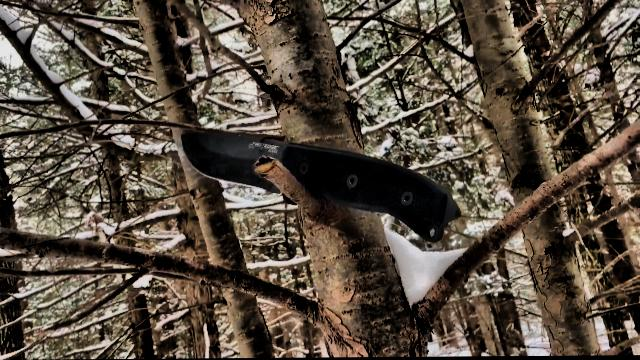knife: (172, 125, 368, 216)
